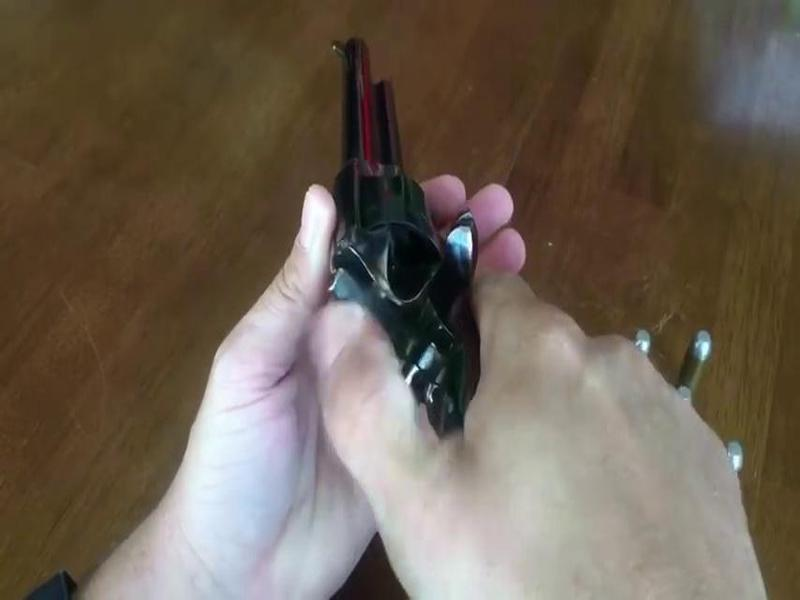Revolver: (281, 38, 489, 447)
